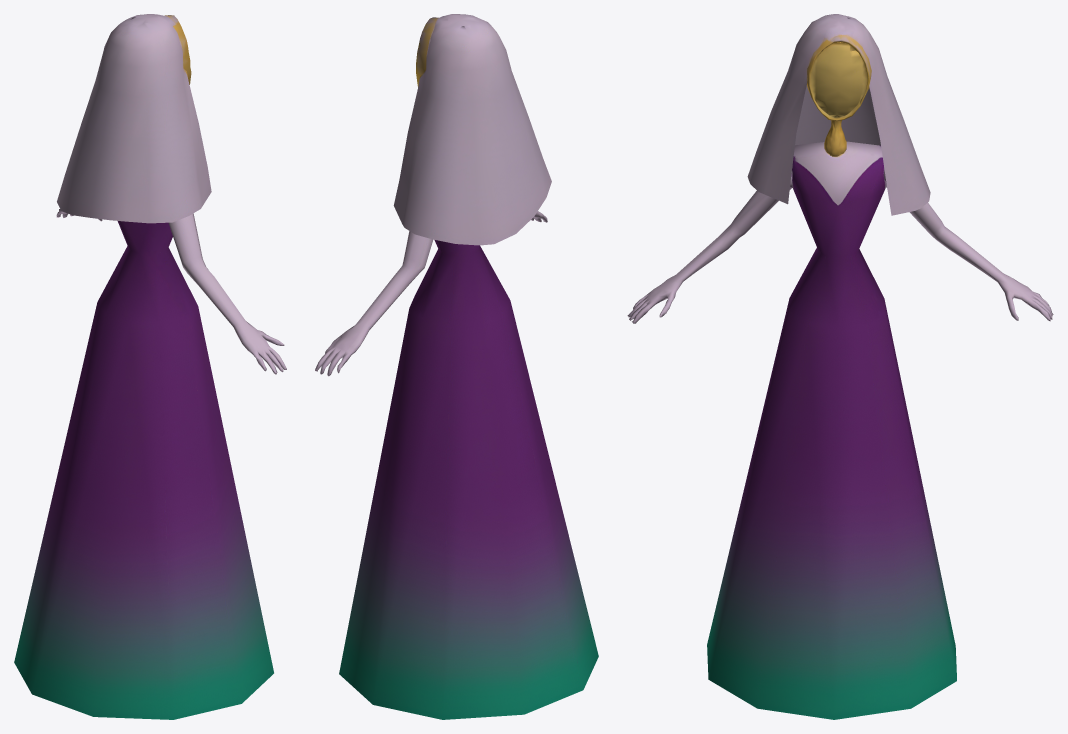
3 views of the same model, side by side, from view 1: azimuth 30°, elevation 25°; view 2: azimuth 150°, elevation 25°; view 3: azimuth 270°, elevation 25° (orthographic).
Parts seen in each view (by area): view 1: tripo_node_3554ef22-1f30-433a-9dc6-1eb343007053; view 2: tripo_node_3554ef22-1f30-433a-9dc6-1eb343007053; view 3: tripo_node_3554ef22-1f30-433a-9dc6-1eb343007053.
Boxes of the visible parts, bbox=[...] form: tripo_node_3554ef22-1f30-433a-9dc6-1eb343007053: bbox=[14, 14, 286, 719]; tripo_node_3554ef22-1f30-433a-9dc6-1eb343007053: bbox=[315, 14, 598, 719]; tripo_node_3554ef22-1f30-433a-9dc6-1eb343007053: bbox=[627, 14, 1053, 719].
Size of the model in its own units: 0.3652 by 0.998 by 0.5957.
1 material, 1 textured.
